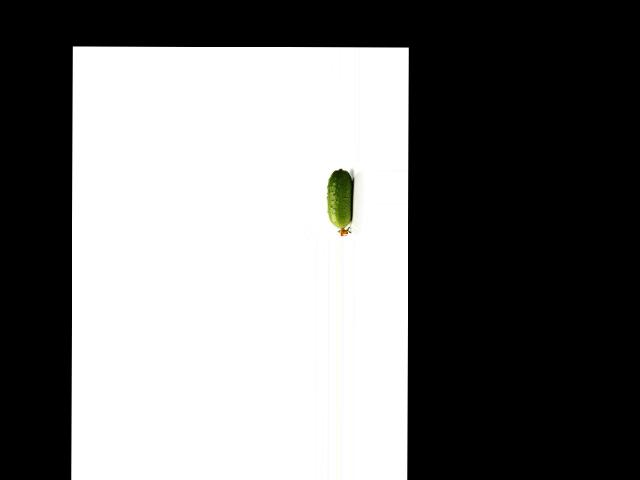cucumber: (327, 168, 353, 235)
